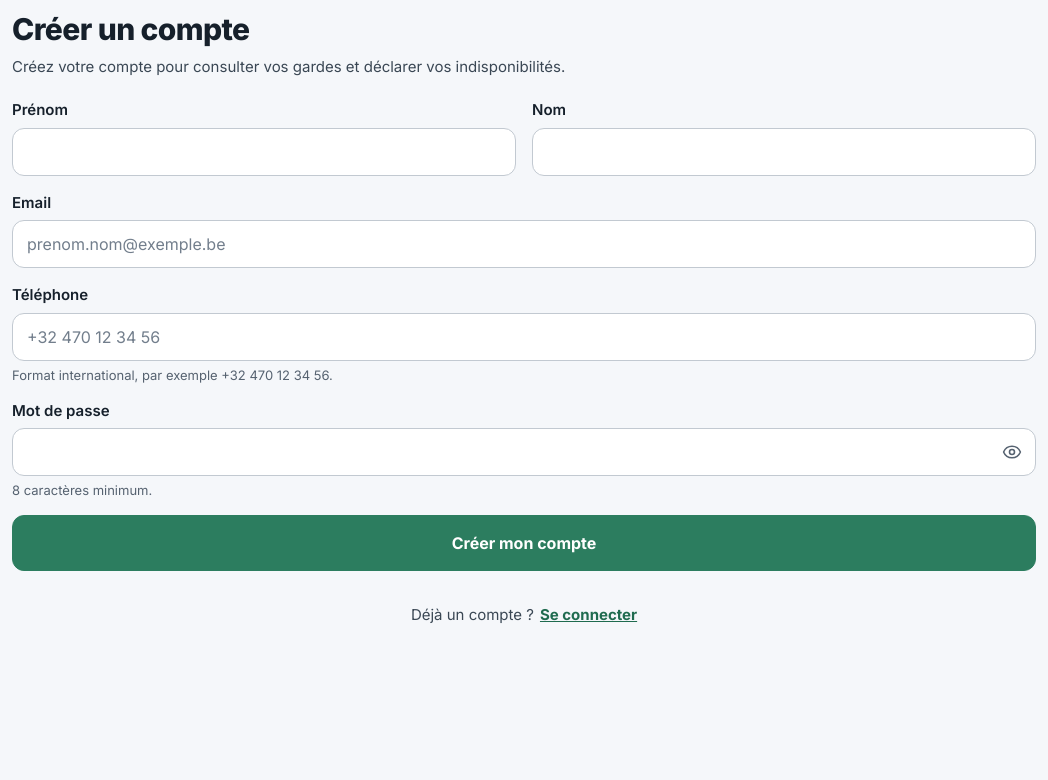
Test: RegisterPage (classic sign-up) › goes back to an actionable button when the request fails at the network level
Type "Alice" into the field labelled "Prénom" at (264, 152), box [12,128,516,176]
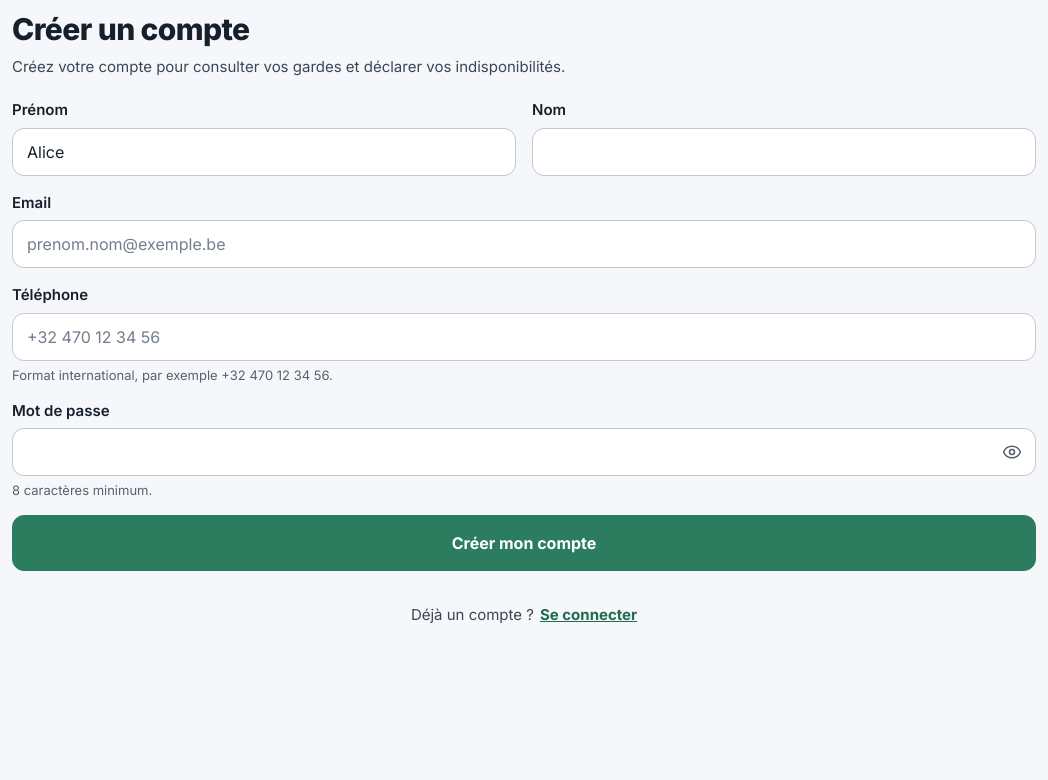
Type "Martin" into the field labelled "Nom" at (784, 152), box [532,128,1036,176]
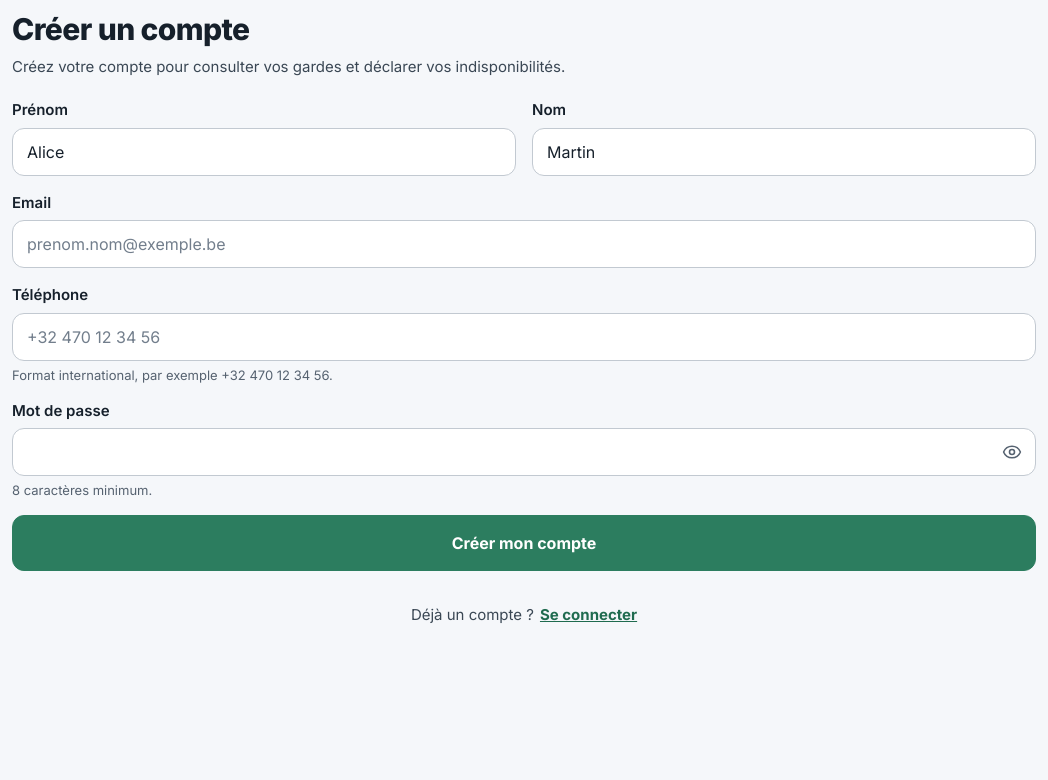
Type "alice@example.com" into the field labelled "Email" at (524, 244), box [12,220,1036,268]
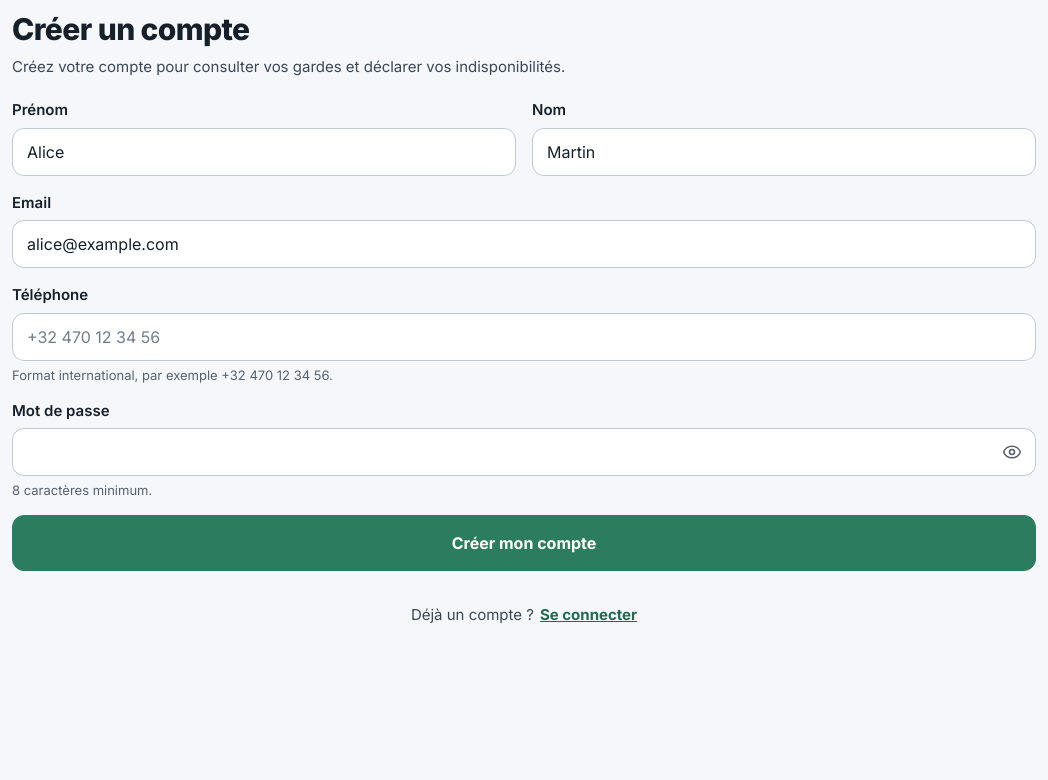
Type "0470 12 34 56" into the field labelled "Téléphone" at (524, 337), box [12,313,1036,361]
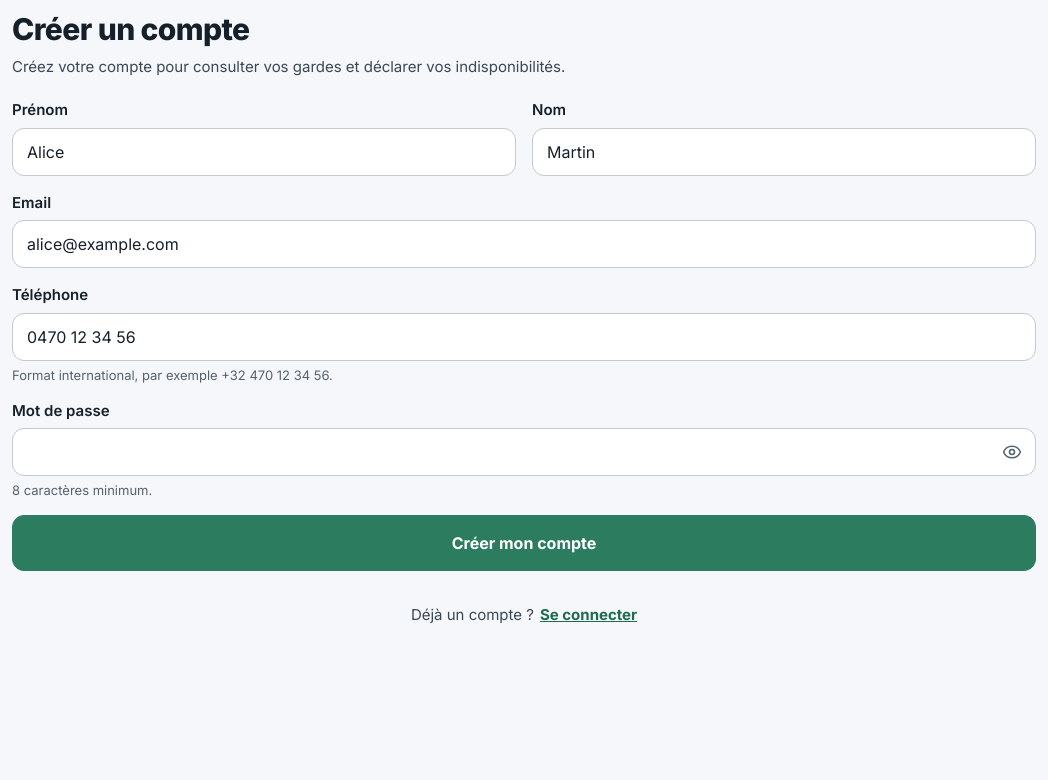
Type "correct-horse-battery" into the password field labelled "Mot de passe" at (524, 452), box [12,428,1036,476]
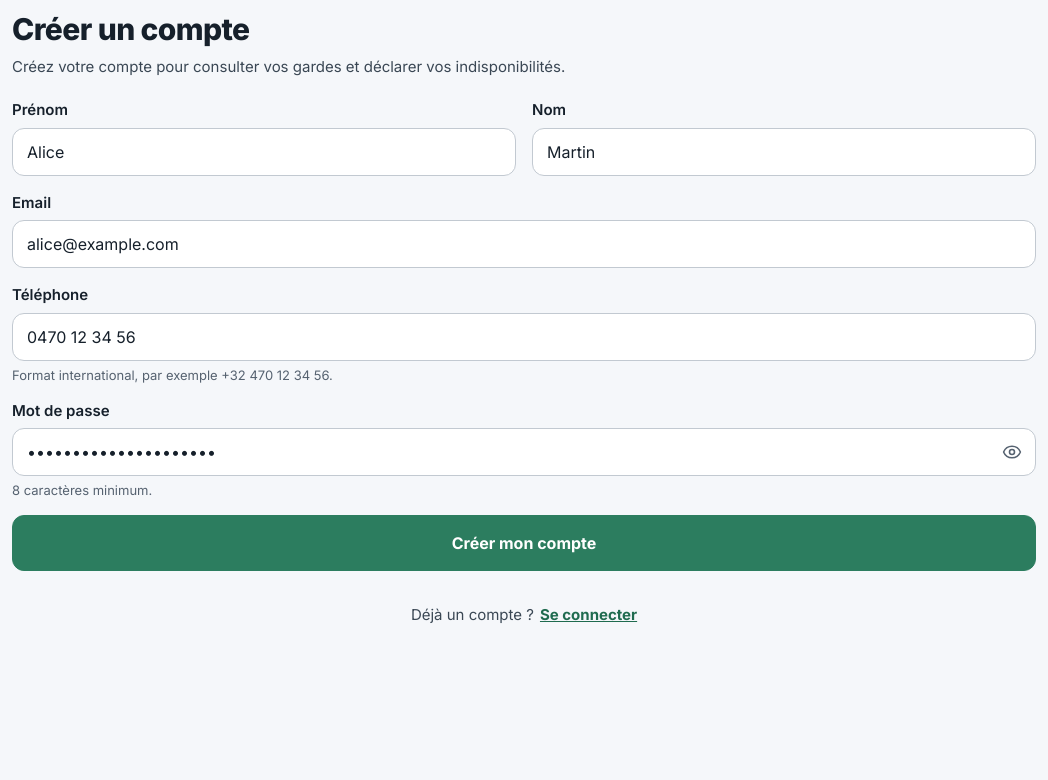
Click the button "Créer mon compte" at (524, 543), box [12,515,1036,571]
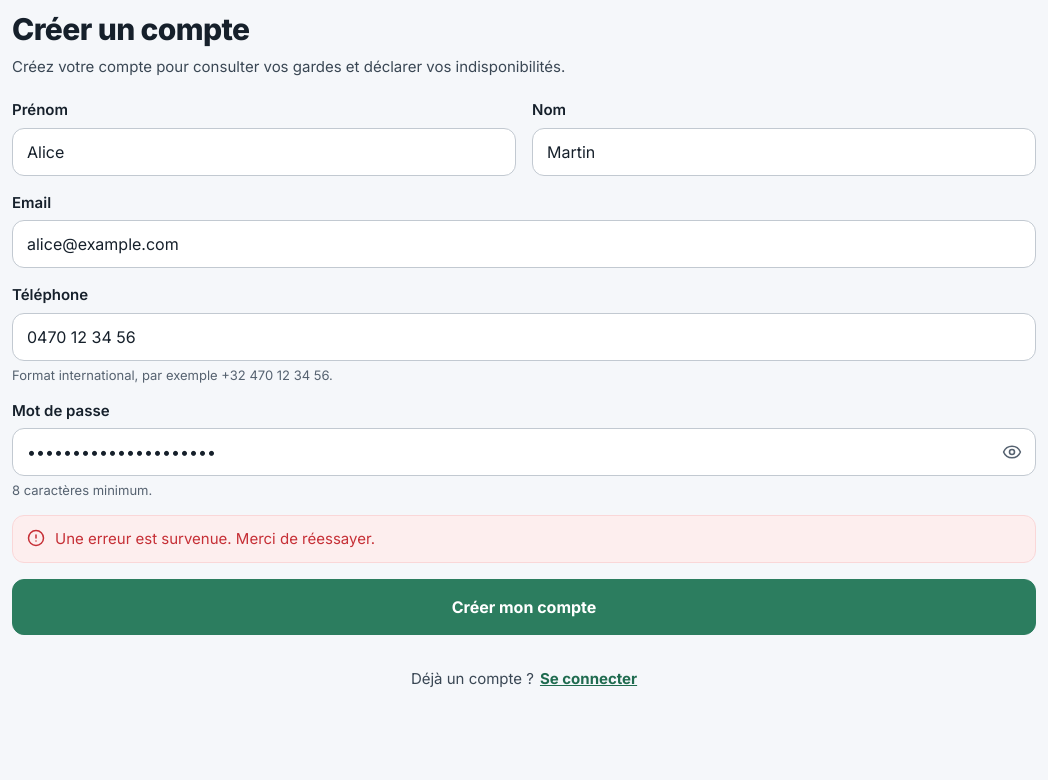
Expected: the button "Créer mon compte" is enabled, [12,579,1036,635]
Expected: the message shows "Une erreur est survenue", [55,529,375,548]
